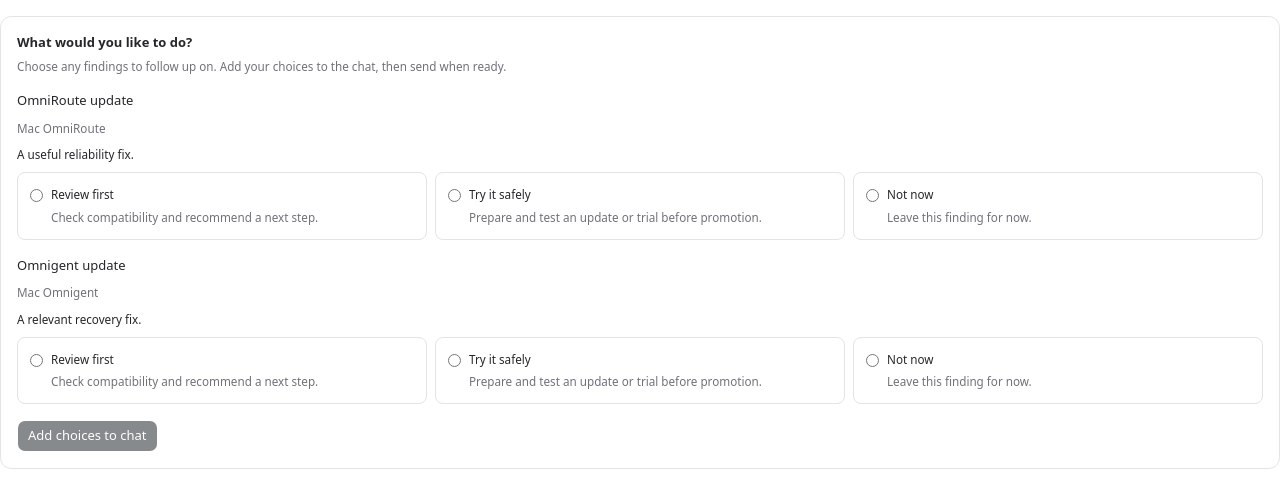
Scenario: requires a deliberate choice, preserves selections and prepares rather than executes
Expected: the button "Add choices to chat" is disabled, [17,420,158,452]
Step 1. Click the 1st radio button labelled "Try it safely" → (454,196), box [448,189,461,202]
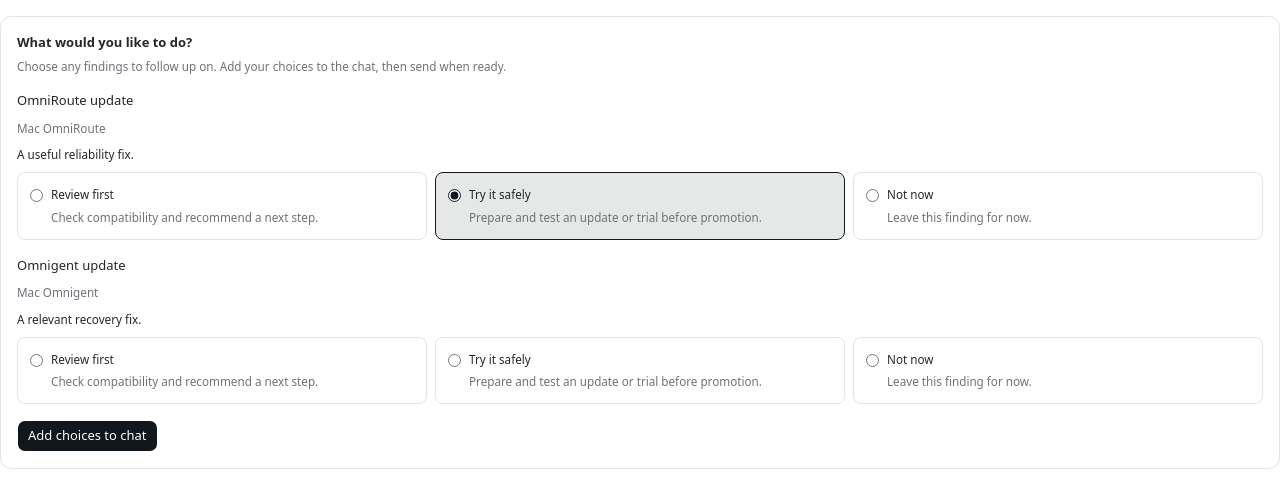
Step 2. Click the 2nd radio button labelled "Not now Leave this finding for now." → (872,360), box [866,354,879,366]
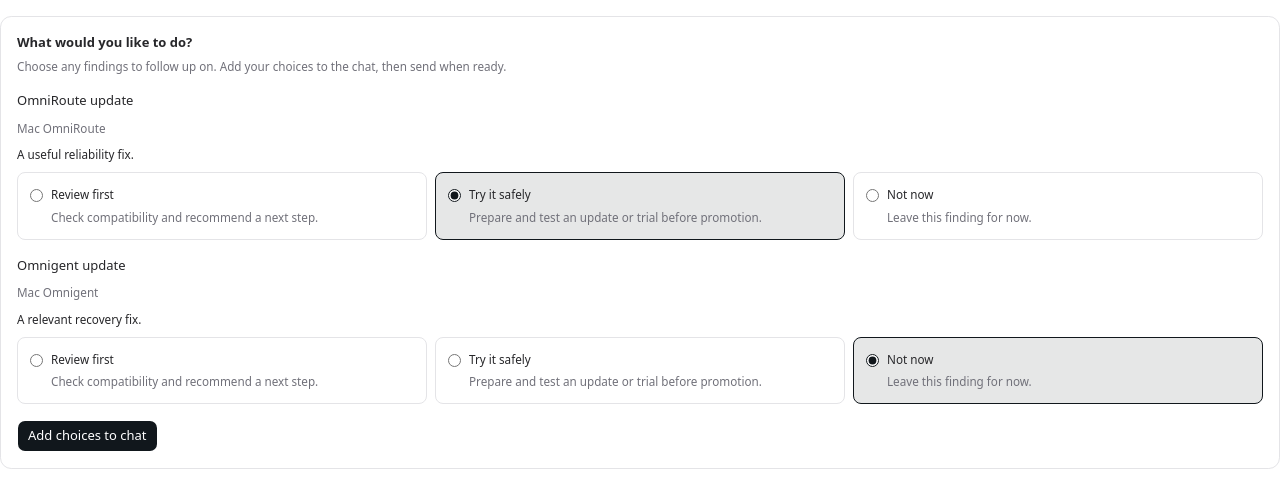
Step 3. Click the button "Add choices to chat" → (87,436), box [17,420,158,452]
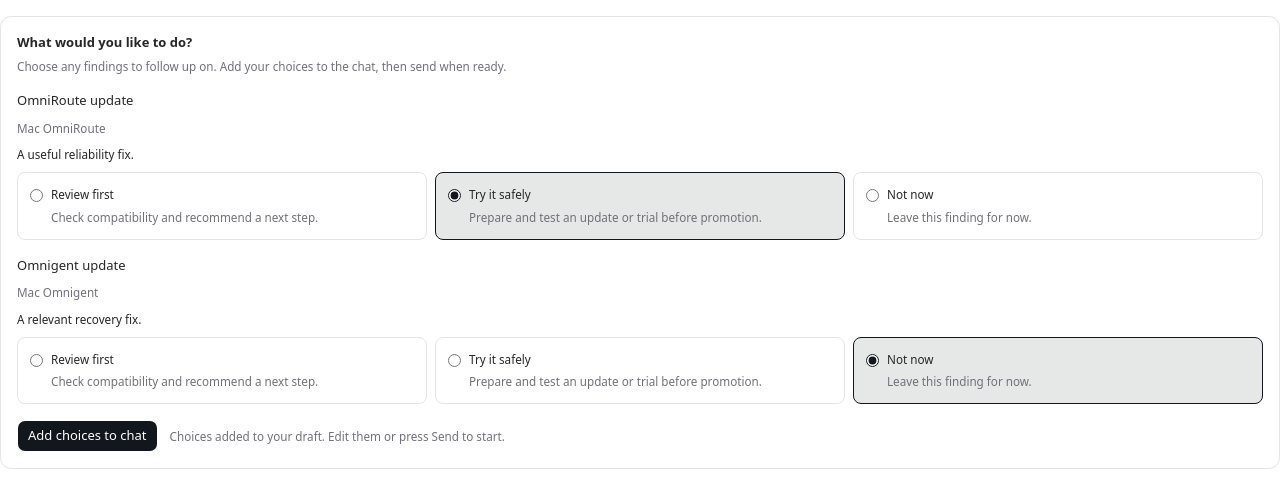
Result: the message shows "Edit them or press Send" at [170,428,505,444]
